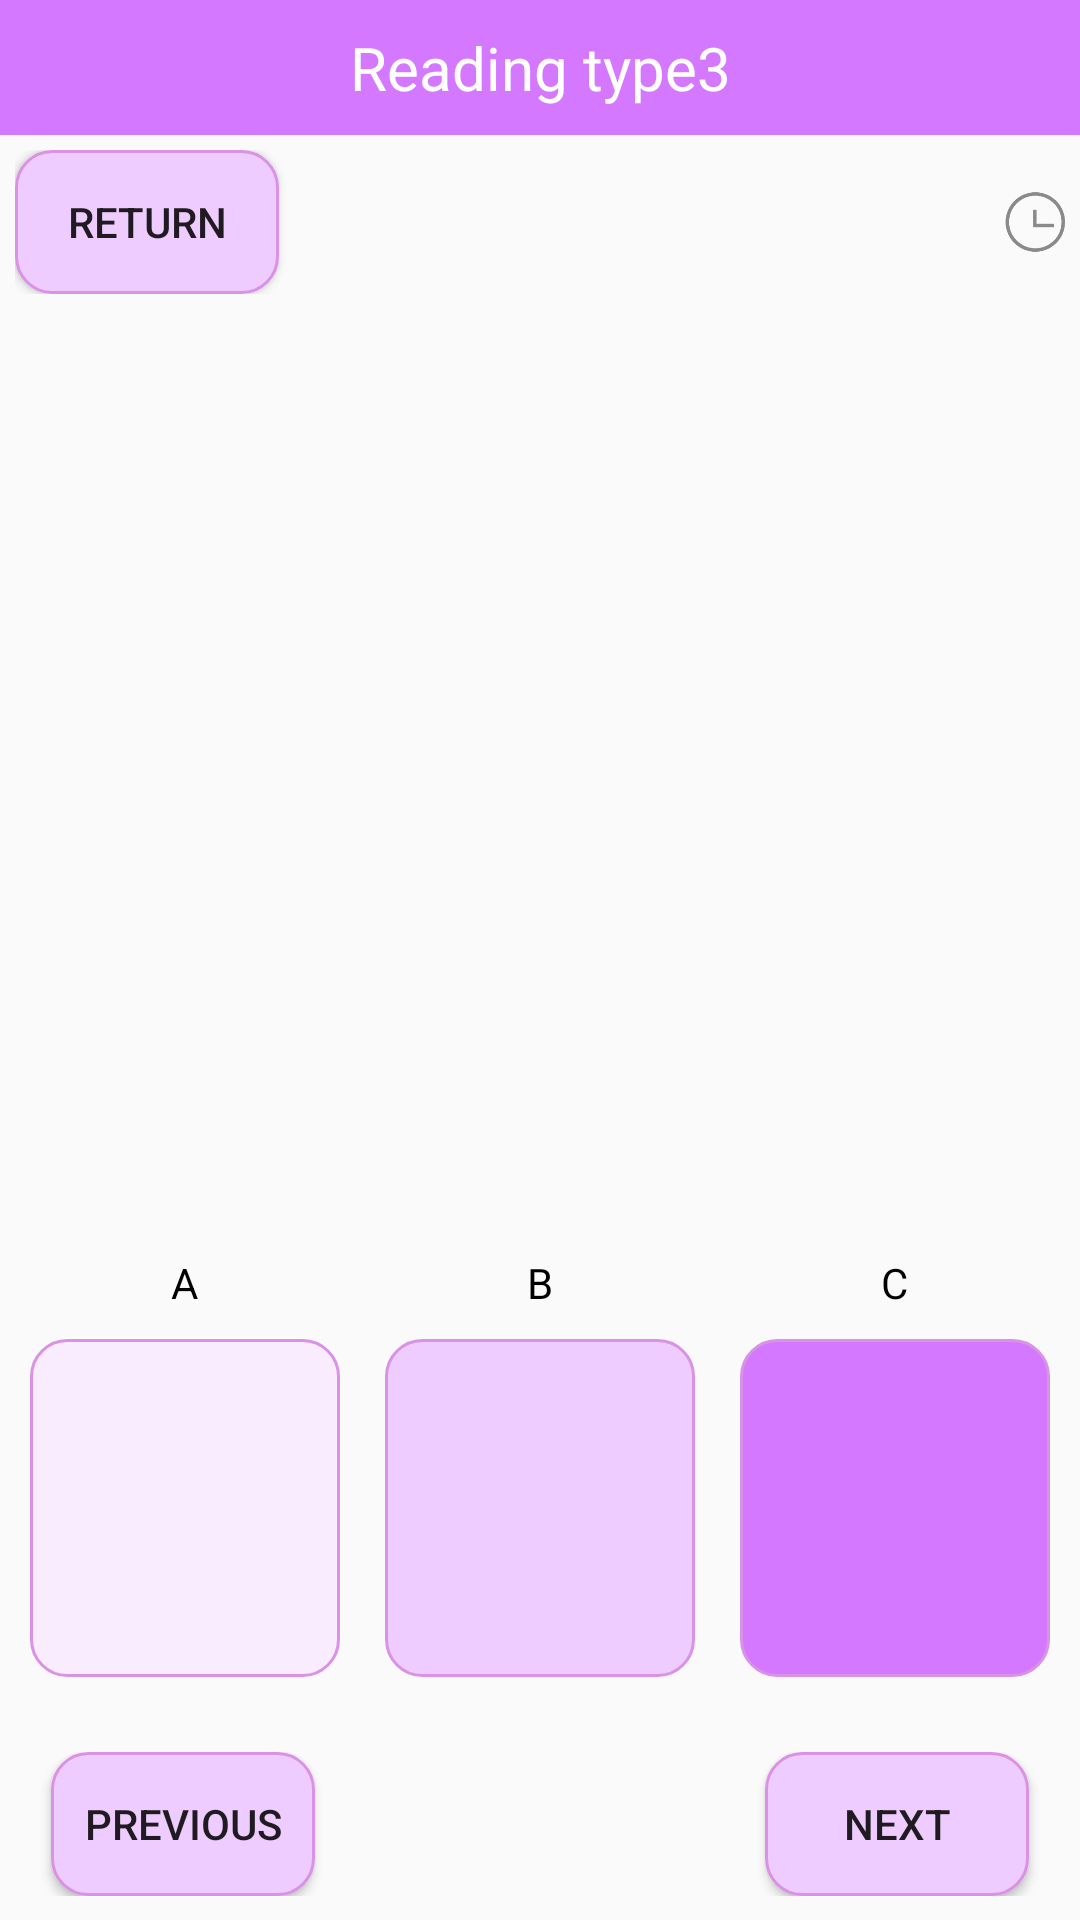

Named icons in this screenshot (1080px x 1920px) and their bounding boxes, (x1, y1, x2, y2):
time: (1005, 192, 1065, 252)
